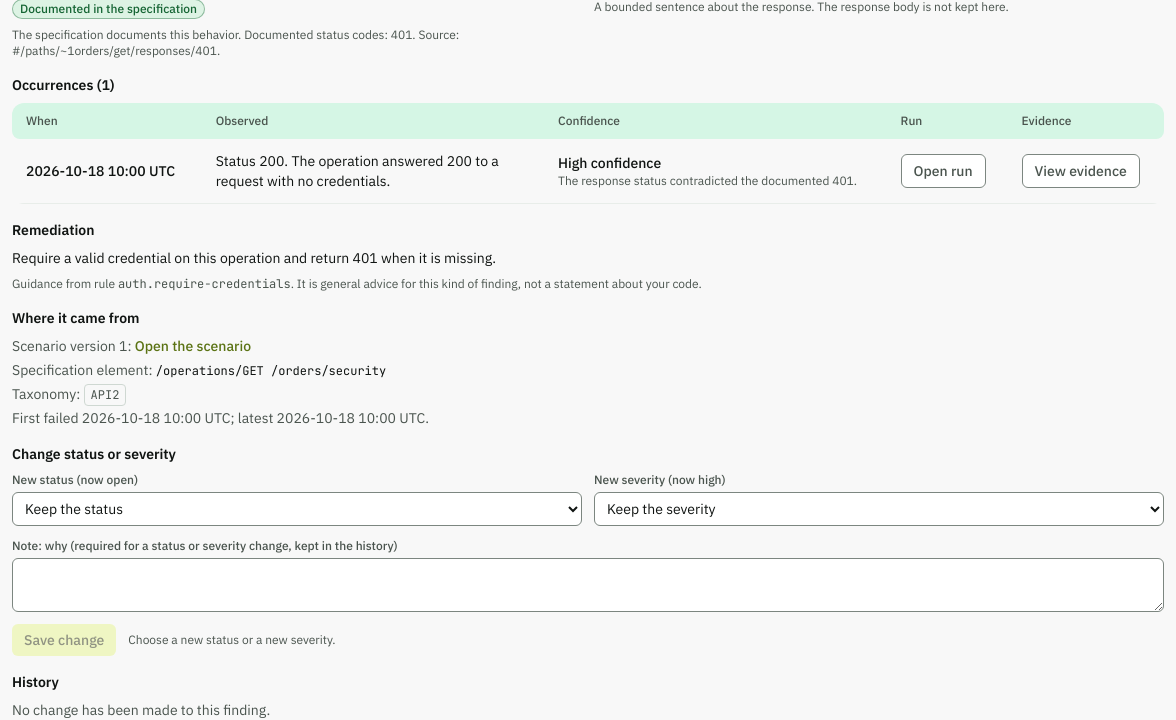
Test: FindingDetail (T123, FR-054 to FR-059) › changing status or severity › disables Save with the reason until something changes and a note is written
This screenshot has width=1176, height=720.
(page scrolled)
Check: the button "Save change" is disabled, box [12,624,116,656]
Step 1. Select "Resolved" in the dropdown labelled "New status (now open)" → coordinates (297, 509), box [12,492,582,526]
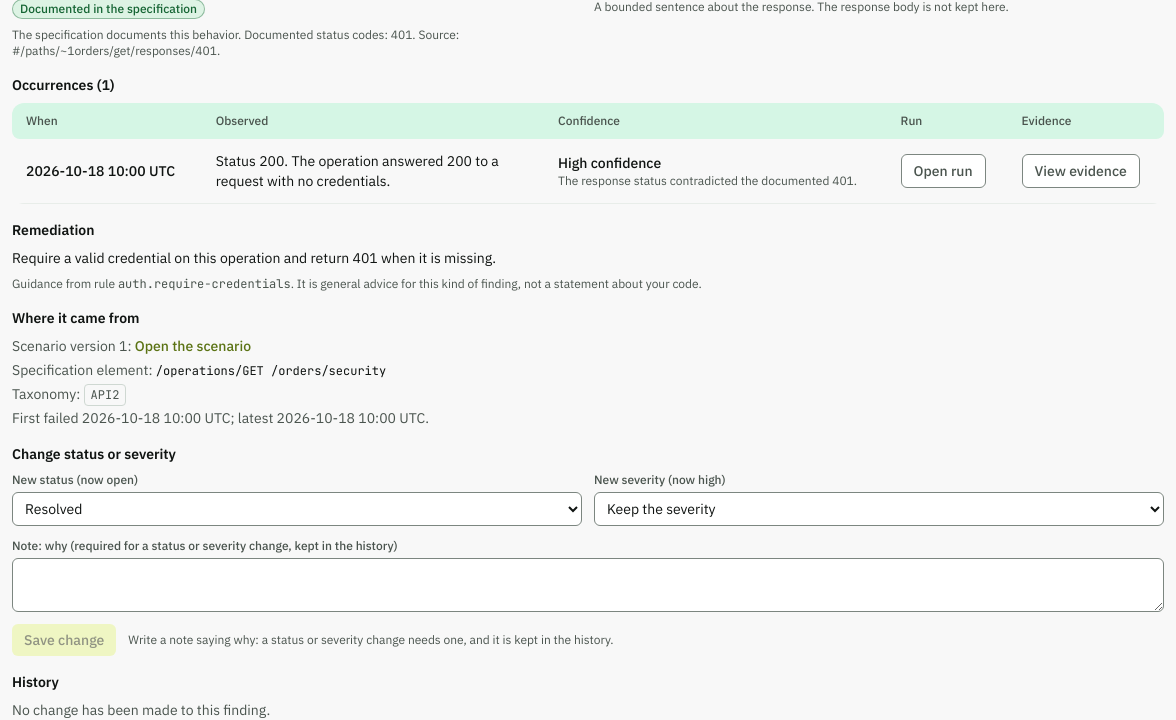
Check: the button "Save change" is disabled, box [12,624,116,656]
Step 2. Type "Fixed in release 4.2" into the text box labelled "Note: why" → coordinates (588, 585), box [12,558,1164,612]
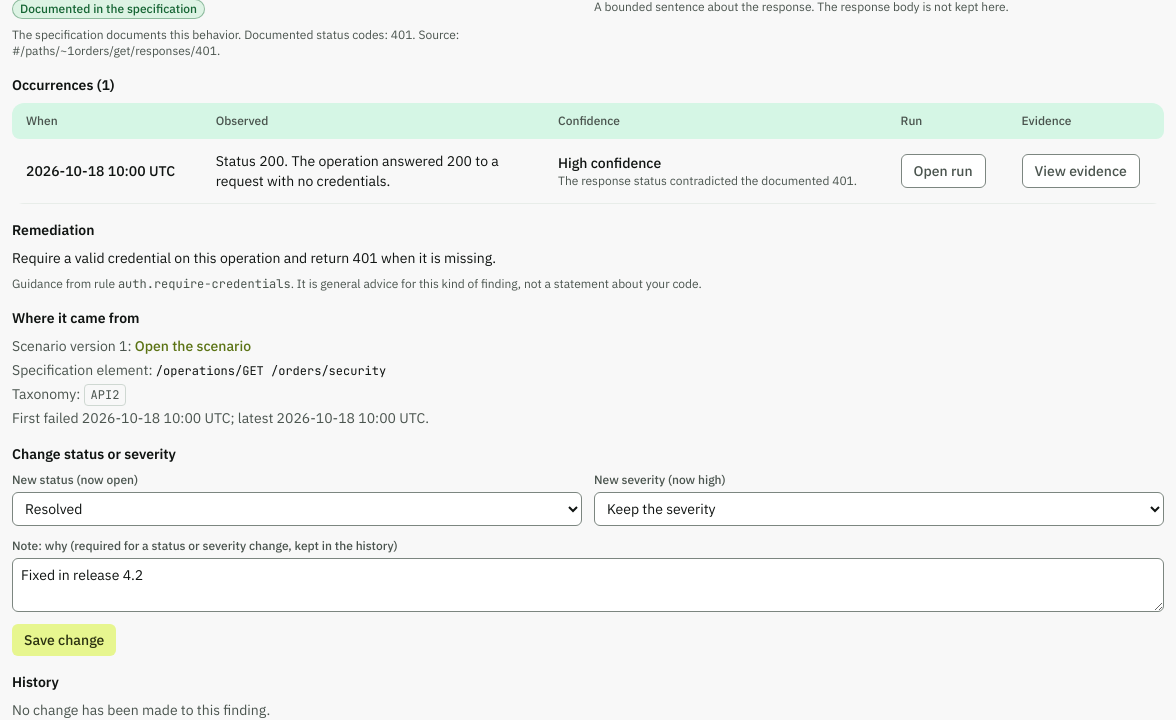
Check: the button "Save change" is enabled, box [12,624,116,656]
